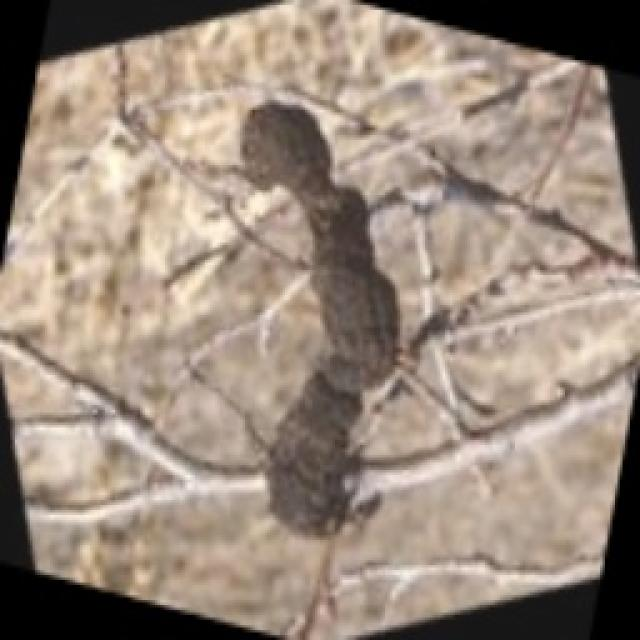Black_knot: (230, 95, 405, 540)
